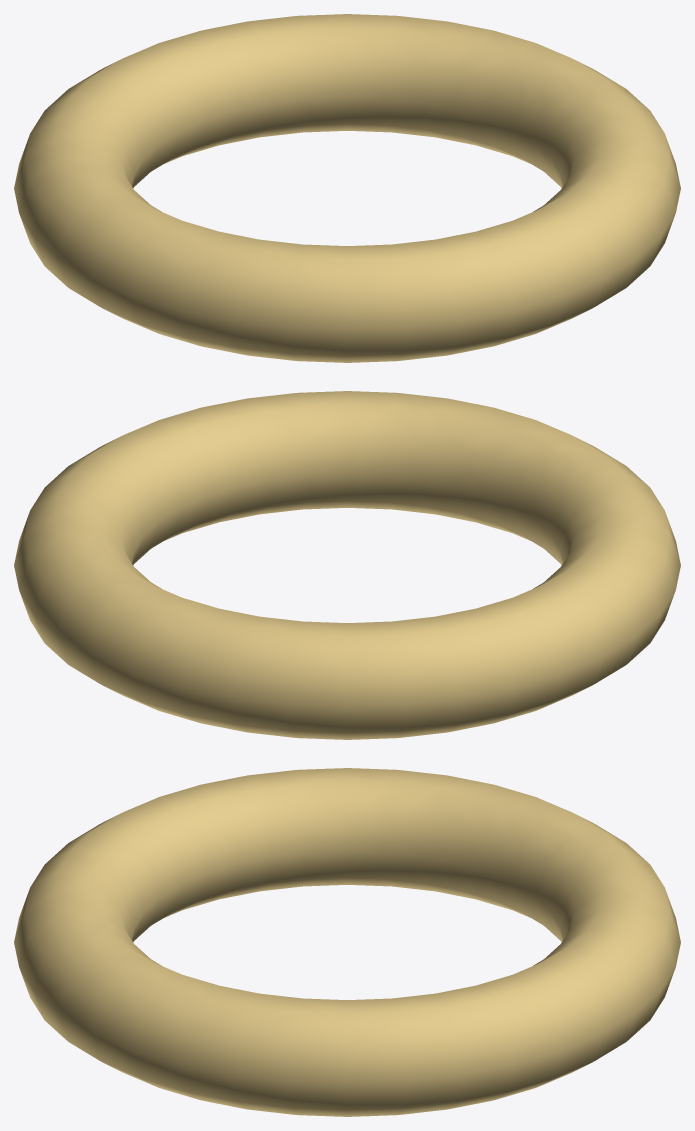
Rendered from ss_ring.glb.
The picture shows the model from 3 angles, top to bottom: view 1: azimuth 30°, elevation 25°; view 2: azimuth 150°, elevation 25°; view 3: azimuth 270°, elevation 25°; orthographic projection.
Visible parts, largest first — view 1: ss_ring; view 2: ss_ring; view 3: ss_ring.
Boxes of the visible parts, bbox=[...] form: ss_ring: bbox=[14, 14, 680, 362]; ss_ring: bbox=[14, 391, 680, 739]; ss_ring: bbox=[14, 768, 680, 1116].
Bounding box in the file's own units: 0.0238 × 0.00399 × 0.0238.
